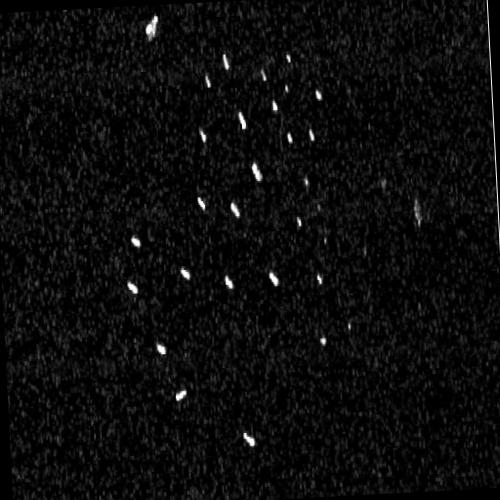ship: (145, 13, 158, 39), (251, 161, 262, 181), (242, 431, 255, 447), (175, 386, 188, 401), (126, 279, 138, 295), (238, 110, 247, 131), (129, 233, 141, 248), (155, 341, 167, 356), (229, 201, 240, 217), (268, 272, 279, 287), (198, 126, 207, 144), (224, 274, 233, 290), (180, 267, 191, 280), (222, 52, 229, 71), (196, 196, 206, 209), (315, 87, 324, 101), (204, 73, 211, 90), (308, 127, 315, 141), (271, 98, 278, 111), (319, 335, 327, 346), (260, 68, 266, 82), (284, 51, 291, 63), (286, 131, 293, 143), (296, 214, 302, 227), (316, 272, 322, 284), (304, 175, 309, 188), (284, 82, 289, 94), (316, 202, 321, 212), (347, 319, 351, 331)
